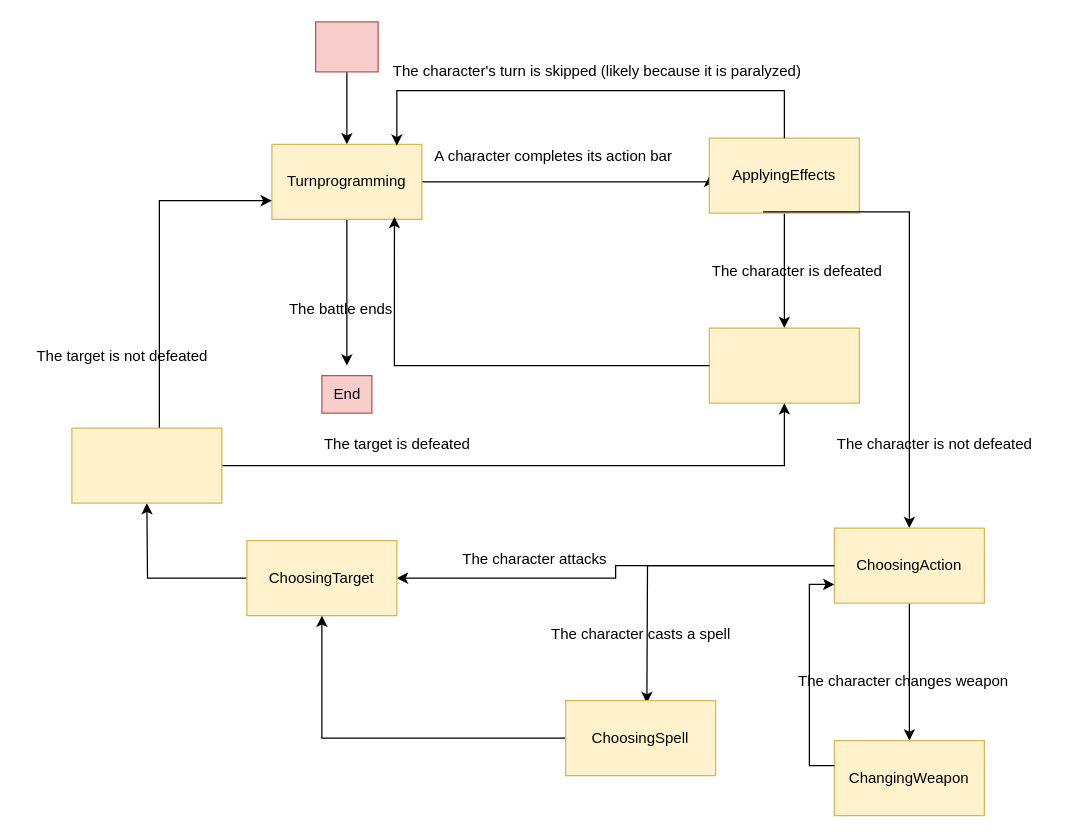
Image size: 1068x838. Some labels were removed from this diagram. Here are the shapes that lost their labels. From the top down, the centre of each, then its label:
At point (346, 46): "Start".
At point (783, 365): "CharacterElimination".
At point (146, 465): "DoingAction(attack or spell)".
